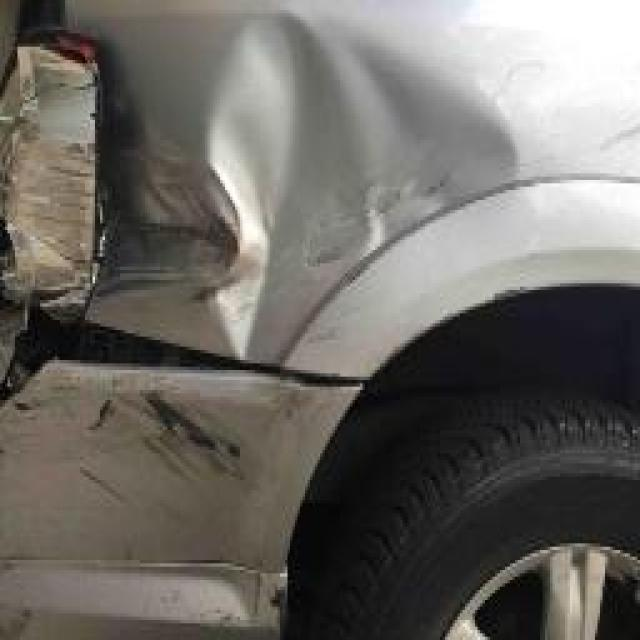Bumper: (0, 317, 340, 640)
Fender: (95, 0, 640, 307)
Light: (0, 7, 90, 310)
